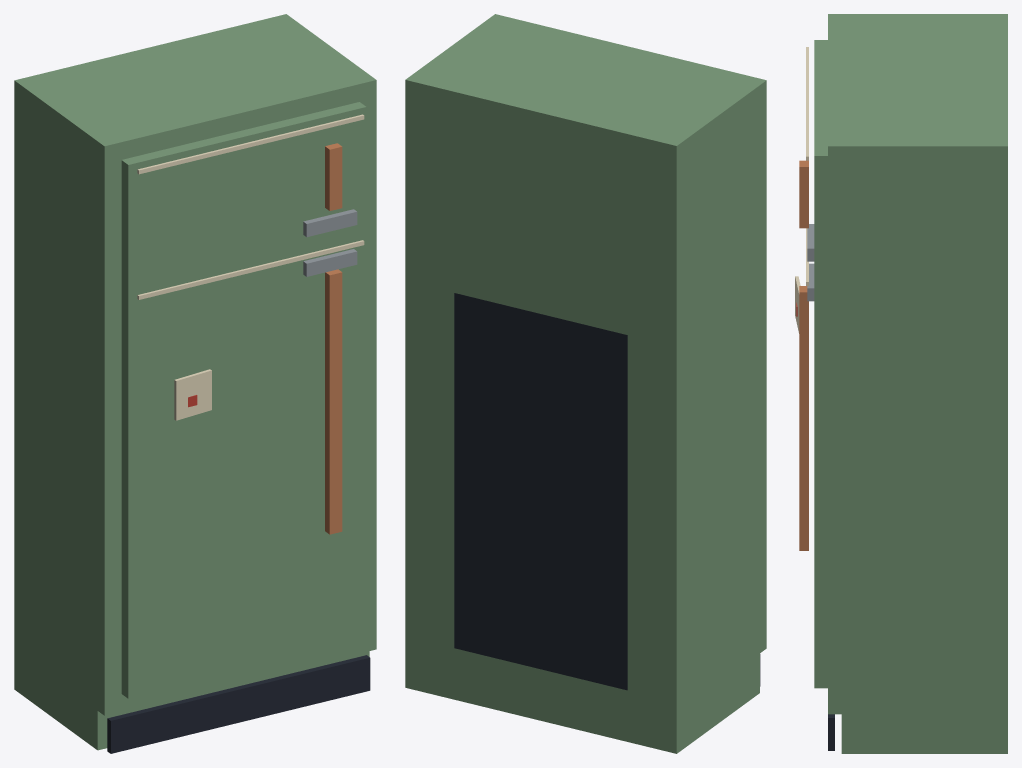
File: kitchenFridge.glb
3 views of the same model, side by side, from view 1: azimuth 30°, elevation 25°; view 2: azimuth 150°, elevation 25°; view 3: azimuth 270°, elevation 25° (orthographic).
Visible parts, largest first — view 1: kitchenFridge(Clone), doorFridge, doorFreezer; view 2: kitchenFridge(Clone); view 3: kitchenFridge(Clone), doorFridge, doorFreezer.
Part boxes in pixels (box(x1,y1,x2,y2)): kitchenFridge(Clone): box(14, 14, 376, 753); doorFridge: box(121, 232, 366, 698); doorFreezer: box(121, 102, 366, 290); kitchenFridge(Clone): box(405, 14, 766, 753); kitchenFridge(Clone): box(828, 14, 1007, 753); doorFridge: box(795, 228, 827, 688); doorFreezer: box(799, 40, 827, 281).
Bounding box in the file's own units: 0.43 × 0.92 × 0.2919.
